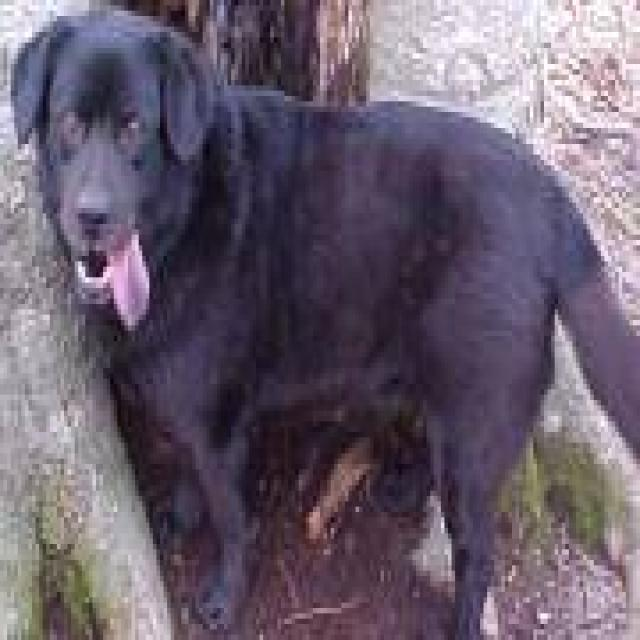dog: (7, 5, 637, 635)
